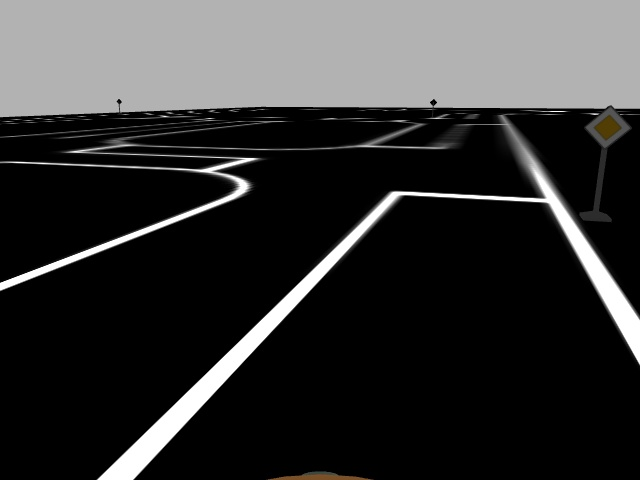priority: (583, 104, 633, 150)
